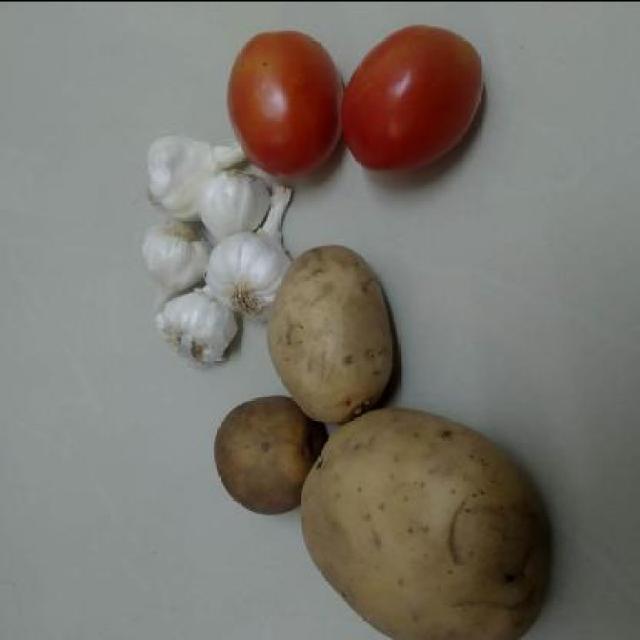Garlic: (211, 183, 291, 320), (145, 134, 249, 211), (145, 223, 209, 305)
Potato: (297, 403, 552, 640), (272, 240, 398, 428), (212, 397, 316, 523)
Tomato: (343, 18, 497, 175), (232, 23, 343, 183)
